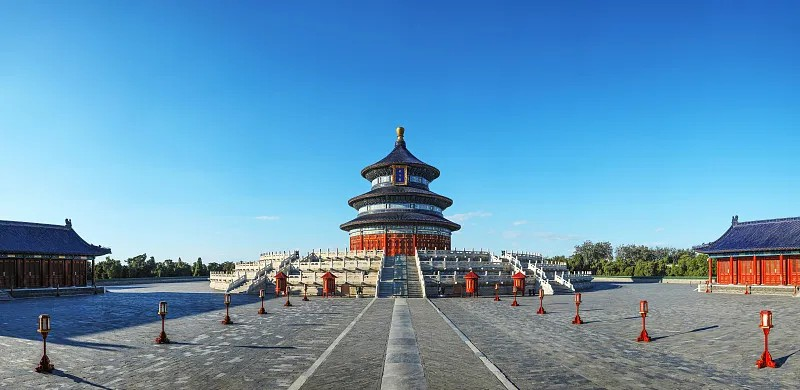Heaven: (338, 126, 463, 255)
